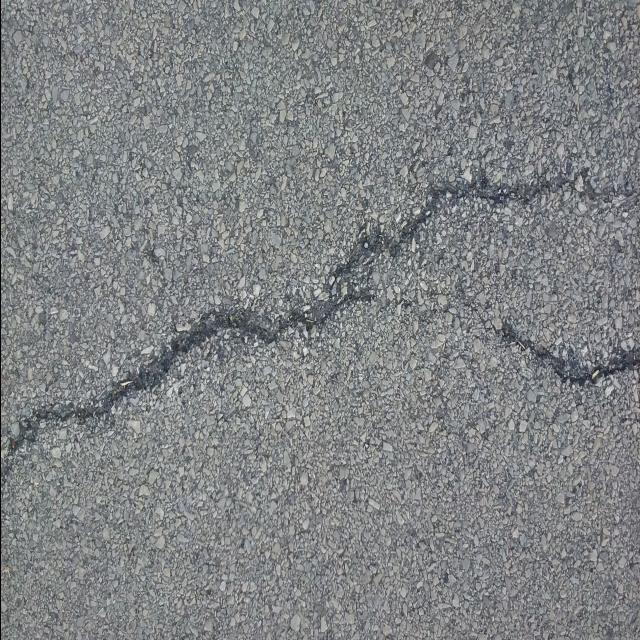Crack: (0, 163, 601, 484), (499, 322, 640, 392)
